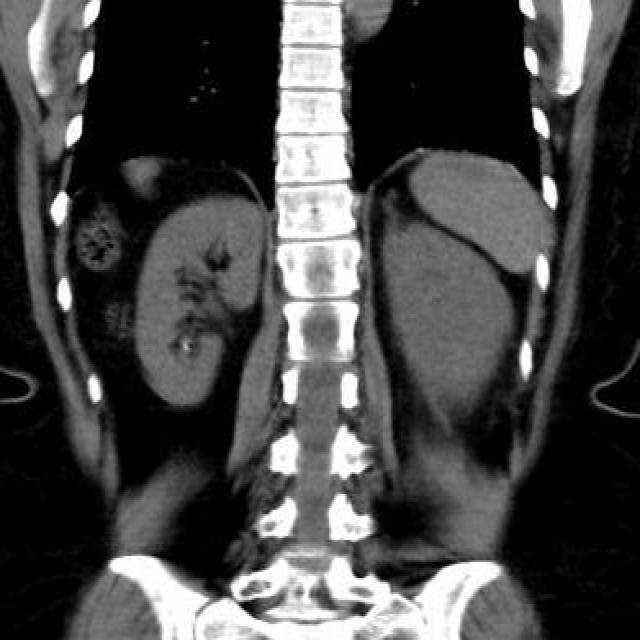Tas_Var: (182, 341, 192, 353)
